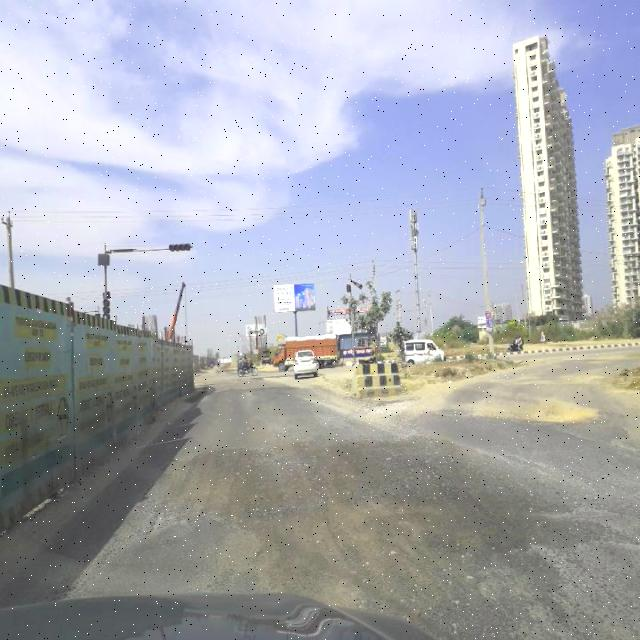D40: (209, 435, 625, 639), (40, 468, 217, 594), (455, 385, 599, 433)
